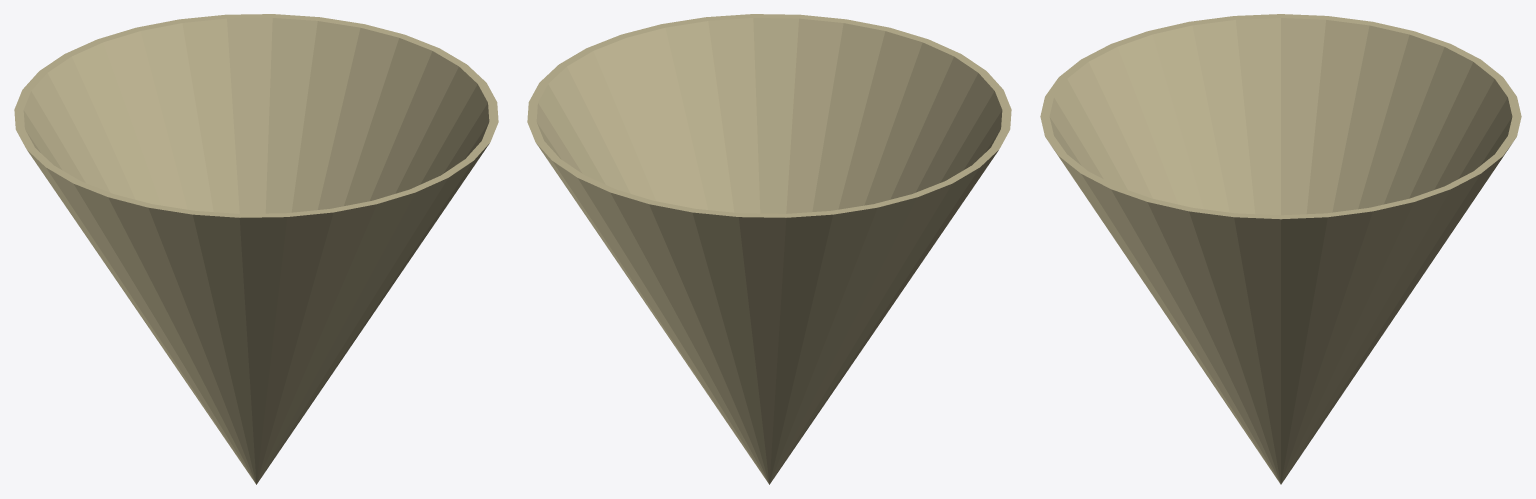
The picture shows the model from 3 angles, left to right: view 1: azimuth 30°, elevation 25°; view 2: azimuth 150°, elevation 25°; view 3: azimuth 270°, elevation 25°; orthographic projection.
Visible parts, largest first — view 1: Cone_WP; view 2: Cone_WP; view 3: Cone_WP.
Part boxes in pixels (x1=…): Cone_WP: x1=14, y1=14, x2=498, y2=484; Cone_WP: x1=527, y1=14, x2=1011, y2=484; Cone_WP: x1=1040, y1=14, x2=1521, y2=484.
Bounding box in the file's own units: 0.4671 × 0.4629 × 0.391.
